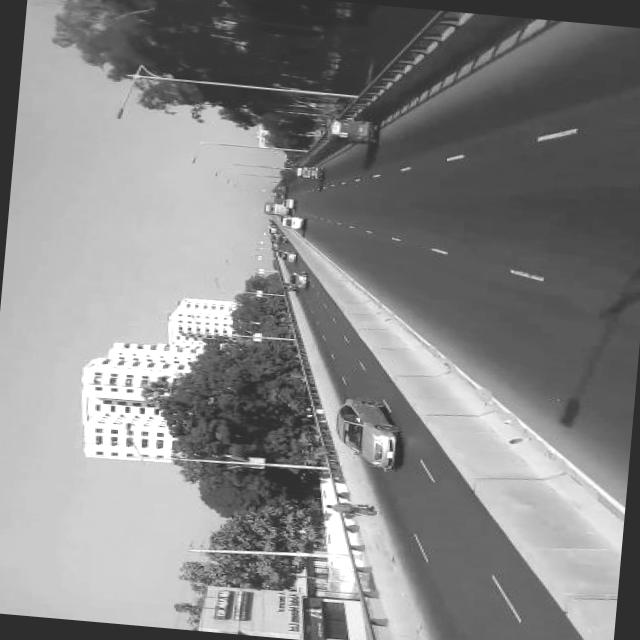bus: (260, 198, 288, 212)
car: (328, 394, 408, 469)
motorcycle: (324, 112, 381, 146), (290, 162, 324, 181), (278, 279, 299, 290)
truck: (278, 213, 306, 228)
